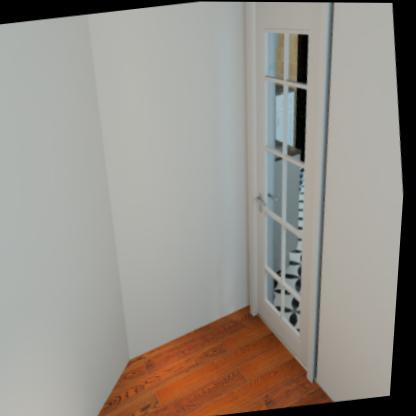Wooden floor: (103, 308, 338, 416)
